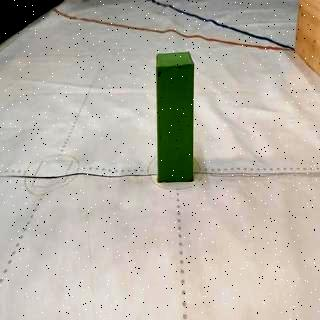greenbox: (156, 53, 194, 184)
